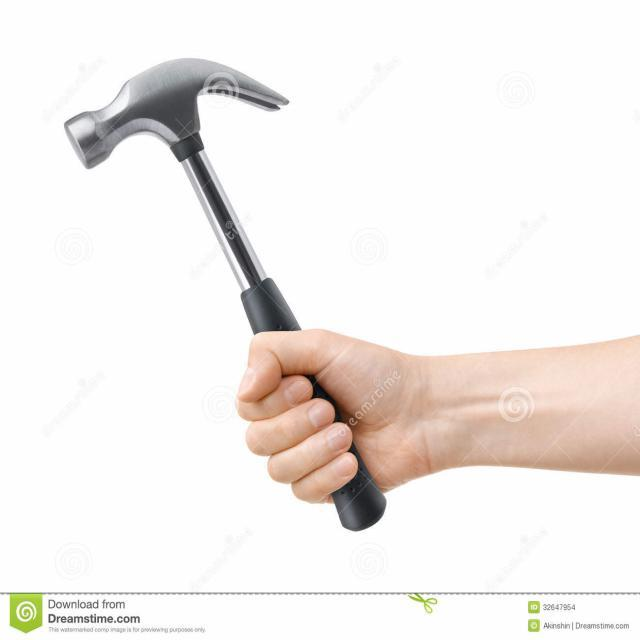hammer: (61, 46, 392, 544)
